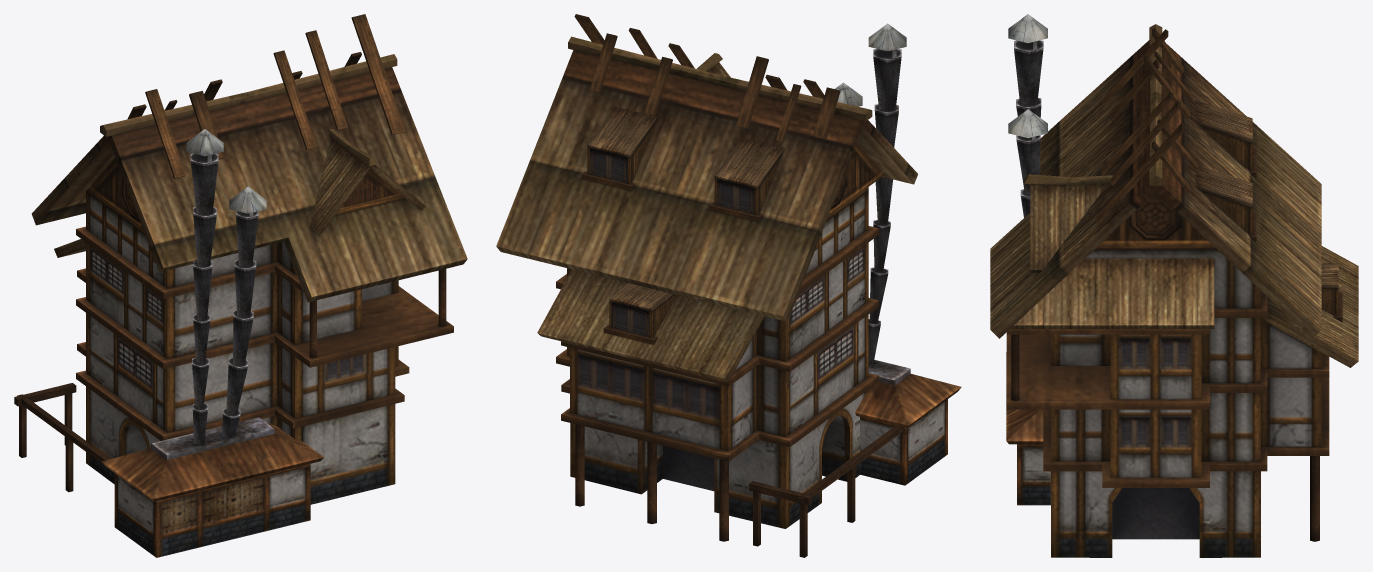
Rendered from MEB_building_04.fbx.
3 views of the same model, side by side, from view 1: azimuth 30°, elevation 25°; view 2: azimuth 150°, elevation 25°; view 3: azimuth 270°, elevation 25° (orthographic). The views are drawn at different scales.
Visible parts, largest first — view 1: MEB_building_04; view 2: MEB_building_04; view 3: MEB_building_04.
Boxes of the visible parts, x1=… form: MEB_building_04: x1=14, y1=14, x2=467, y2=557; MEB_building_04: x1=496, y1=14, x2=961, y2=557; MEB_building_04: x1=990, y1=14, x2=1358, y2=557.
Bounding box in the file's own units: 961 × 1231 × 924.
